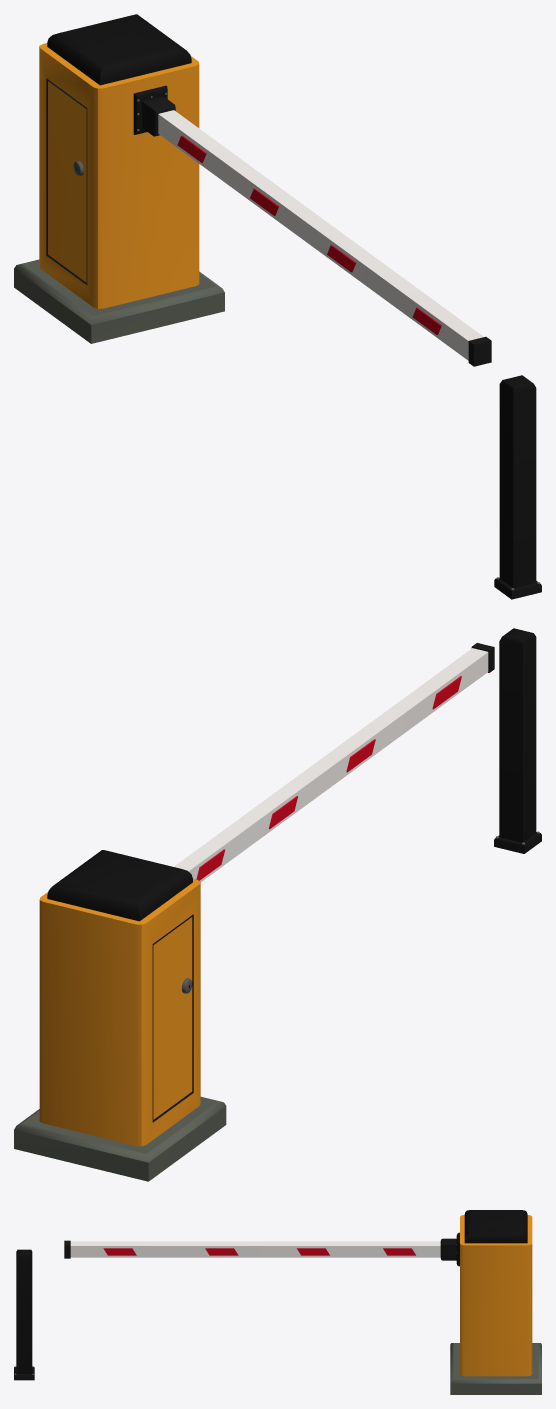
The model's file is bariyer.fbx.
3 views of the same model, one above another, from view 1: azimuth 30°, elevation 25°; view 2: azimuth 150°, elevation 25°; view 3: azimuth 270°, elevation 25° (orthographic). The views are drawn at different scales.
Parts seen in each view (by area): view 1: Plane.001, Plane.002; view 2: Plane.001, Plane.002; view 3: Plane.001, Plane.002.
Boxes of the visible parts, bbox=[...] form: Plane.001: bbox=[14, 14, 491, 366]; Plane.002: bbox=[494, 375, 541, 599]; Plane.001: bbox=[14, 643, 494, 1181]; Plane.002: bbox=[494, 628, 541, 853]; Plane.001: bbox=[64, 1210, 541, 1394]; Plane.002: bbox=[14, 1249, 34, 1380].
Size of the model in its own units: 88.54 by 165 by 510.
Materials: 1 (1 with a texture image).
